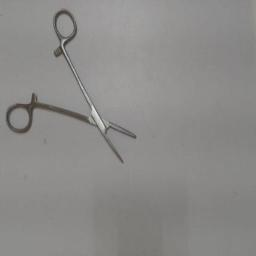Mayo Needle Holder: (1, 2, 153, 178)
